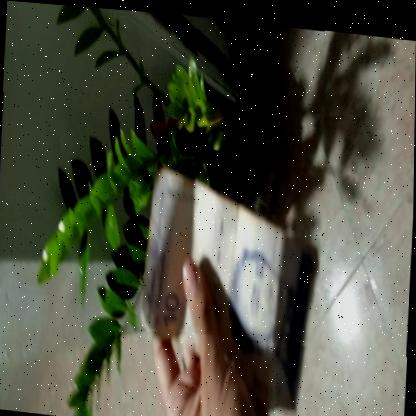vef_front: (134, 163, 325, 415)
